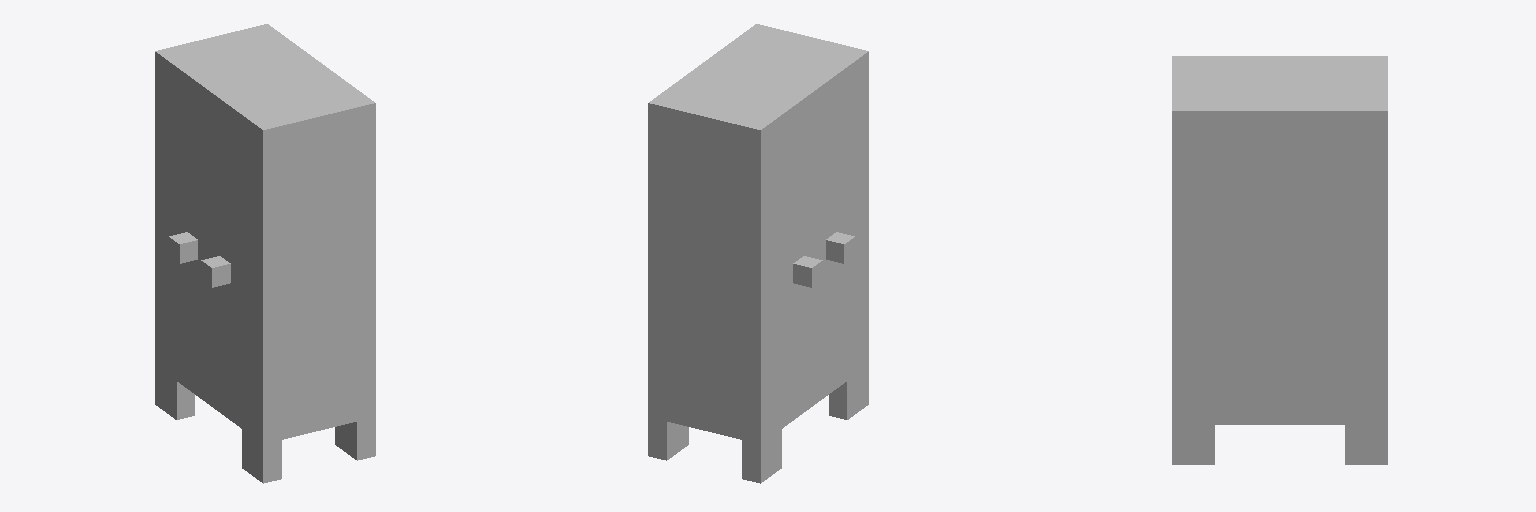
File: wardrobe.obj
3 views of the same model, side by side, from view 1: azimuth 30°, elevation 25°; view 2: azimuth 150°, elevation 25°; view 3: azimuth 270°, elevation 25° (orthographic).
Visible parts, largest first — view 1: object 1; view 2: object 1; view 3: object 1.
Boxes of the visible parts, x1,y1,x2,y2 form: object 1: [155, 24, 375, 483]; object 1: [648, 24, 868, 483]; object 1: [1172, 56, 1387, 464].
Bounding box in the file's own units: 0.7 × 1.8 × 1.